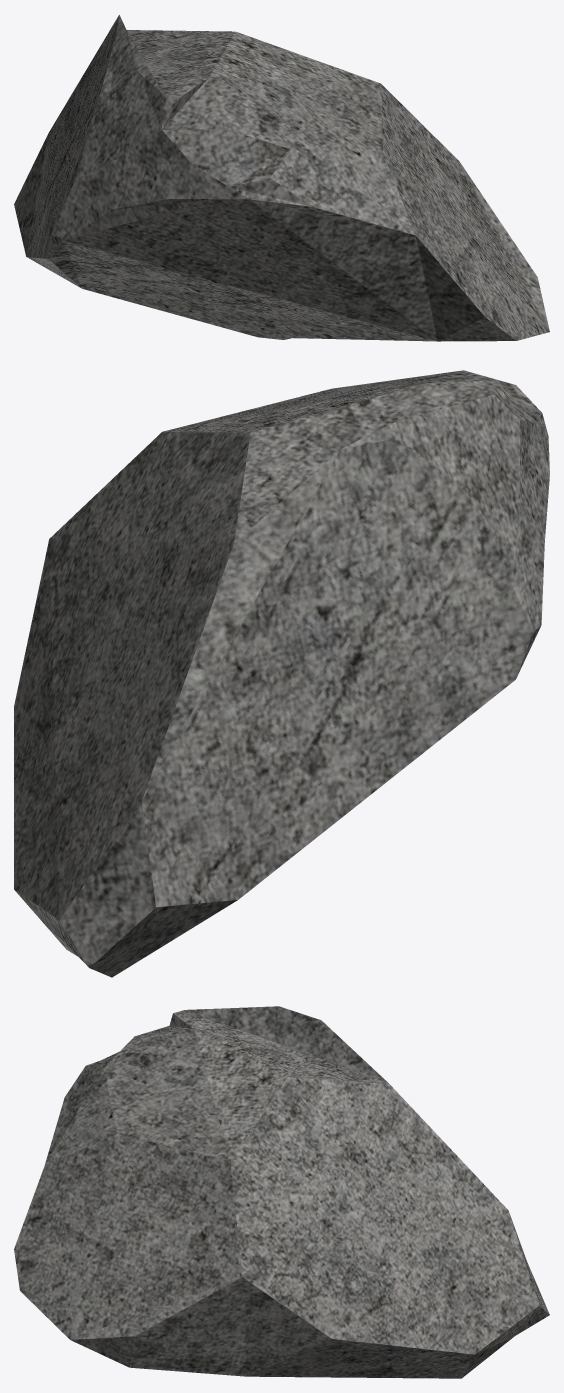
The model's file is roccia_piccola_8.fbx.
3 views of the same model, one above another, from view 1: azimuth 30°, elevation 25°; view 2: azimuth 150°, elevation 25°; view 3: azimuth 270°, elevation 25° (orthographic). The views are drawn at different scales.
Visible parts, largest first — view 1: roccia_piccola_8; view 2: roccia_piccola_8; view 3: roccia_piccola_8.
Part boxes in pixels (box(x1,y1,x2,y2)): roccia_piccola_8: box(14, 15, 549, 341); roccia_piccola_8: box(14, 370, 549, 977); roccia_piccola_8: box(14, 1006, 549, 1378).
Size of the model in its own units: 19.5 by 17.59 by 27.45.
